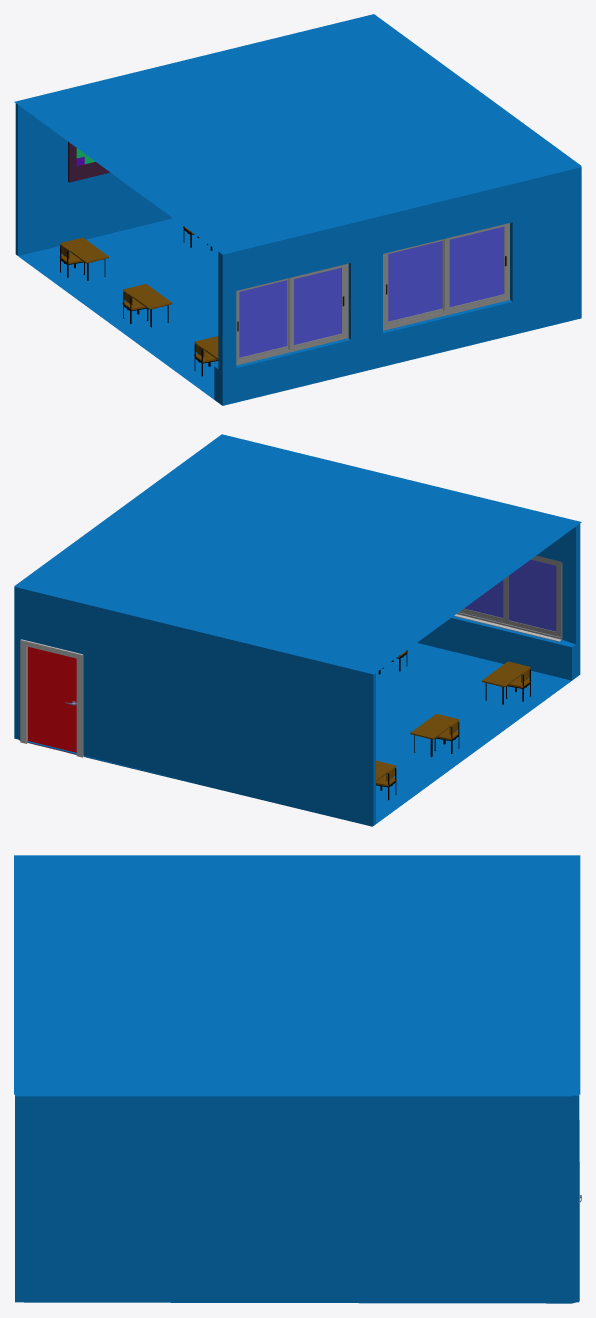
Rendered from hiddenroom1.obj.
The picture shows the model from 3 angles, top to bottom: view 1: azimuth 30°, elevation 25°; view 2: azimuth 150°, elevation 25°; view 3: azimuth 270°, elevation 25°; orthographic projection. The views are drawn at different scales.
Visible parts, largest first — view 1: Plane.002, Plane.001, Window.R.001_Window.R.002, Window.L.001_Window.L.002, Window.R_Window.R.001, Window.L_Window.L.001, Cube.001, WindowFrame.001_WindowFrane.002, Cube.006_Cube.007, WindowFrame_WindowFrane.001; view 2: Plane.002, Plane.001, Door, Window.L_Window.L.001, Cube.001, DoorFrame_DoorFrane, Window.R_Window.R.001, WindowFrame_WindowFrane.001; view 3: Plane.002, Plane.001.
Part boxes in pixels (box(x1,y1,x2,y2)): Plane.002: box(14, 14, 581, 253); Plane.001: box(15, 103, 581, 405); Window.R.001_Window.R.002: box(443, 223, 507, 312); Window.L.001_Window.L.002: box(386, 239, 443, 325); Window.R_Window.R.001: box(288, 264, 344, 349); Window.L_Window.L.001: box(237, 278, 288, 361); Cube.001: box(59, 226, 218, 376); WindowFrame.001_WindowFrane.002: box(383, 223, 510, 330); Cube.006_Cube.007: box(68, 141, 109, 182); WindowFrame_WindowFrane.001: box(236, 263, 348, 365); Plane.002: box(14, 434, 581, 673); Plane.001: box(14, 523, 580, 826); Door: box(27, 647, 76, 754); Window.L_Window.L.001: box(503, 557, 559, 636); Cube.001: box(376, 650, 531, 800); DoorFrame_DoorFrane: box(20, 639, 83, 757); Window.R_Window.R.001: box(461, 580, 503, 621); WindowFrame_WindowFrane.001: box(457, 555, 562, 639); Plane.002: box(14, 855, 580, 1094); Plane.001: box(15, 1094, 579, 1303).
Size of the model in its own units: 40.2 by 16.62 by 40.31.
